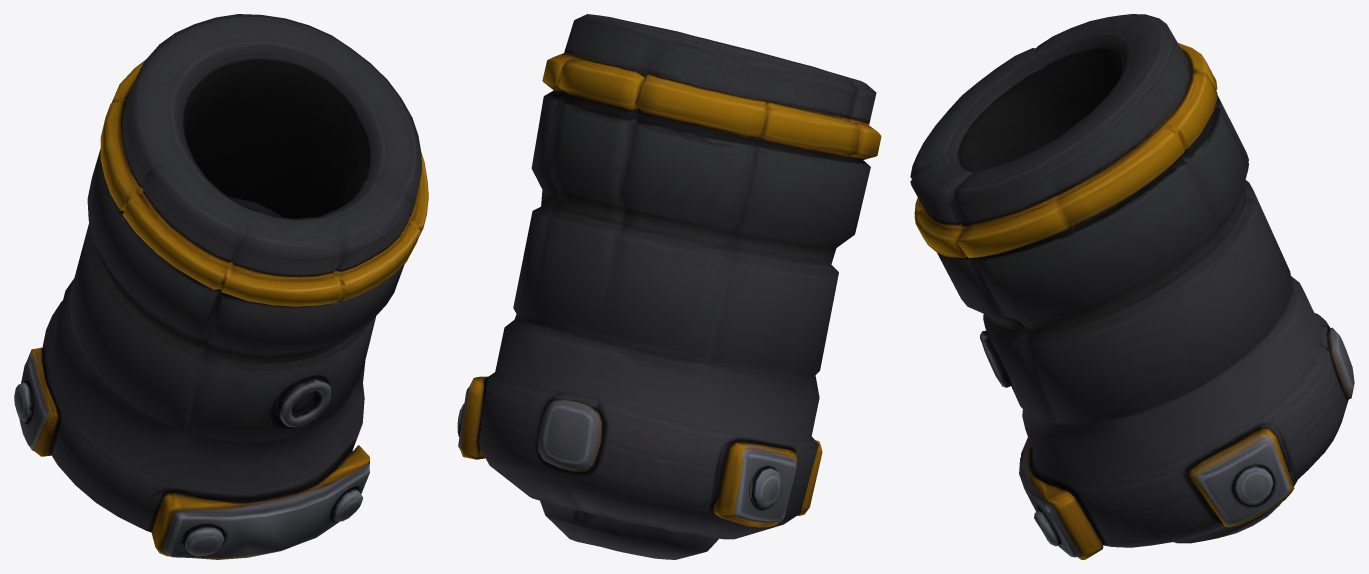
The model's file is MortarFBX.fbx.
3 renders of one model, left to right at view 1: azimuth 30°, elevation 25°; view 2: azimuth 150°, elevation 25°; view 3: azimuth 270°, elevation 25°, orthographic. The views are drawn at different scales.
Parts seen in each view (by area): view 1: tripo_node_d3a7dc01; view 2: tripo_node_d3a7dc01; view 3: tripo_node_d3a7dc01.
Part boxes in pixels (x1,y1,x2,y2): tripo_node_d3a7dc01: (14,14,428,559); tripo_node_d3a7dc01: (457,14,881,559); tripo_node_d3a7dc01: (910,14,1354,559).
Size of the model in its own units: 64.26 by 82.23 by 99.8.
1 material, 1 textured.
